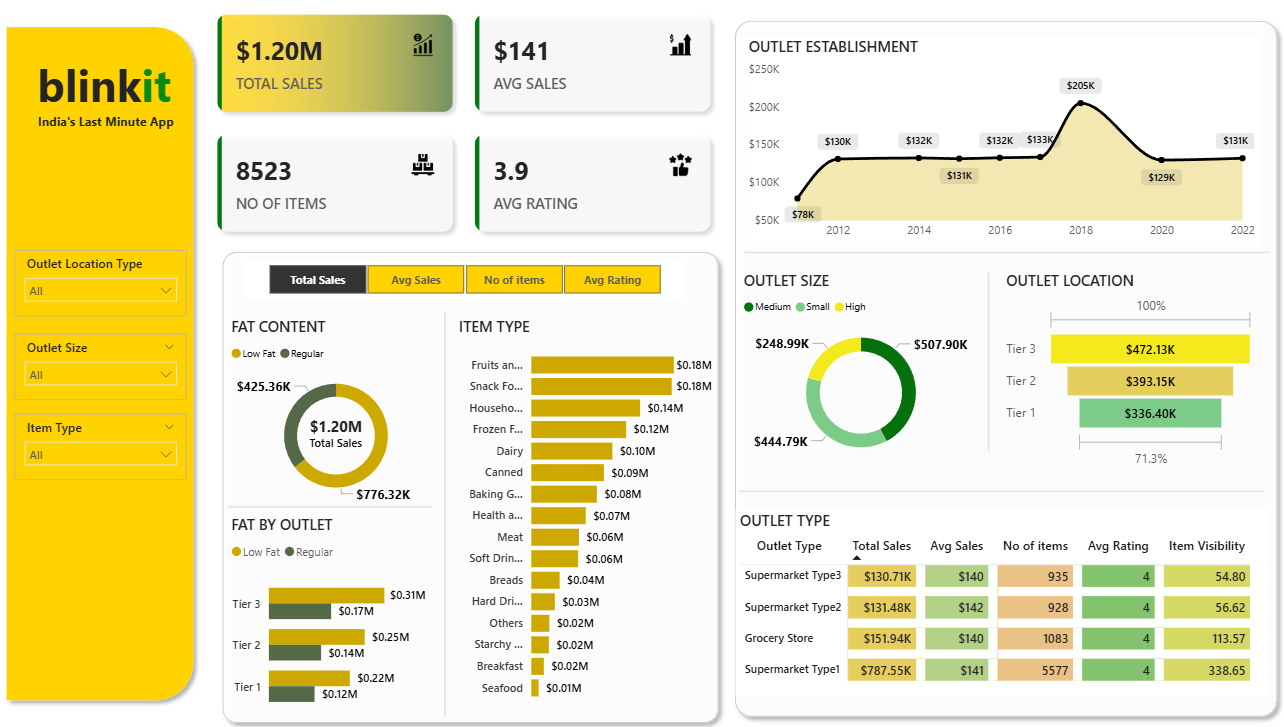

This screenshot's page, from the dashboard's own definition file:
{"tool":"powerbi","page":{"name":"Page 1","canvas":[1400,800],"ordinal":0},"visuals":[{"type":"shape","box":[0,25.8,221.5,750],"z":0},{"type":"textbox","box":[37.5,60,163.6,79.5],"z":1000},{"type":"textbox","box":[34.5,123.1,166.6,31.5],"z":2000},{"type":"cardVisual","fields":{"Data":["BlinkIT Grocery Data.Total Sales","BlinkIT Grocery Data.Avg Sales","BlinkIT Grocery Data.No of items","BlinkIT Grocery Data.Avg Rating"]},"box":[221.5,4.1,570.7,270.4],"z":3000},{"type":"shape","box":[235.1,270.4,557.1,529.9],"z":4000},{"type":"donutChart","title":"FAT CONTENT","fields":{"Y":["BlinkIT Grocery Data.Total Sales"],"Category":["BlinkIT Grocery Data.Item Fat Content"]},"box":[248.6,349.2,237.8,210.6],"z":5000},{"type":"slicer","fields":{"Values":["Metric.Metric"]},"box":[269,286.7,475.5,44.8],"z":6000},{"type":"cardVisual","fields":{"Data":["BlinkIT Grocery Data.Total Sales"]},"box":[311.1,440.2,112.8,61.1],"z":7000},{"type":"clusteredBarChart","title":"FAT BY OUTLET","fields":{"Y":["BlinkIT Grocery Data.Total Sales"],"Category":["BlinkIT Grocery Data.Outlet Location Type"],"Series":["BlinkIT Grocery Data.Item Fat Content"]},"box":[248.6,563.9,221.5,229.6],"z":8000},{"type":"barChart","title":"ITEM TYPE","fields":{"Y":["BlinkIT Grocery Data.Total Sales"],"Category":["BlinkIT Grocery Data.Item Type"]},"box":[495.9,349.2,285.3,428],"z":9000},{"type":"shape","box":[250,548.9,221.5,14.9],"z":10000},{"type":"shape","box":[479.6,343.8,12.2,440.2],"z":11000},{"type":"shape","box":[792.1,19,607.3,774.5],"z":12000},{"type":"lineChart","title":"OUTLET ESTABLISHMENT","fields":{"Y":["BlinkIT Grocery Data.Total Sales"],"Category":["BlinkIT Grocery Data.Outlet Establishment Year"]},"box":[811.1,44.8,559.8,229.6],"z":13000},{"type":"shape","box":[811.1,270.4,570.7,19],"z":14000},{"type":"donutChart","title":"OUTLET SIZE","fields":{"Y":["BlinkIT Grocery Data.Total Sales"],"Category":["BlinkIT Grocery Data.Outlet Size"]},"box":[805.7,298.9,264.9,217.4],"z":15000},{"type":"funnel","title":"OUTLET LOCATION","fields":{"Category":["BlinkIT Grocery Data.Outlet Location Type"],"Y":["BlinkIT Grocery Data.Total Sales"]},"box":[1091,298.9,279.9,220.1],"z":16000},{"type":"pivotTable","title":"OUTLET TYPE","fields":{"Rows":["BlinkIT Grocery Data.Outlet Type"],"Values":["BlinkIT Grocery Data.Total Sales","BlinkIT Grocery Data.Avg Sales","BlinkIT Grocery Data.No of items","BlinkIT Grocery Data.Avg Rating","Sum(BlinkIT Grocery Data.Item Visibility)"]},"box":[801.6,559.8,578.8,202.4],"z":17000},{"type":"shape","box":[805.7,529.9,570.7,19],"z":18000},{"type":"shape","box":[1070.7,301.6,12.2,194.3],"z":19000},{"type":"slicer","fields":{"Values":["BlinkIT Grocery Data.Outlet Location Type"]},"box":[17.7,277.2,187.5,72],"z":20000},{"type":"slicer","fields":{"Values":["BlinkIT Grocery Data.Outlet Size"]},"box":[17.7,368.2,187.5,72],"z":21000},{"type":"slicer","fields":{"Values":["BlinkIT Grocery Data.Item Type"]},"box":[17.7,455.2,187.5,72],"z":22000}]}

Visuals, with their boxes in screenshot pixels (x1, y1, x2, y2), scaled from the page's 1400x800 canvas onto the 1284x727 screenshot:
shape: <bbox>0, 23, 203, 705</bbox>
textbox: <bbox>34, 55, 184, 127</bbox>
textbox: <bbox>32, 112, 184, 140</bbox>
cardVisual - BlinkIT Grocery Data.Total Sales x BlinkIT Grocery Data.Avg Sales: <bbox>203, 4, 727, 249</bbox>
shape: <bbox>216, 246, 727, 726</bbox>
"FAT CONTENT" donutChart: <bbox>228, 317, 446, 509</bbox>
slicer - Metric.Metric: <bbox>247, 261, 683, 301</bbox>
cardVisual - BlinkIT Grocery Data.Total Sales: <bbox>285, 400, 389, 456</bbox>
"FAT BY OUTLET" clusteredBarChart: <bbox>228, 512, 431, 721</bbox>
"ITEM TYPE" barChart: <bbox>455, 317, 716, 706</bbox>
shape: <bbox>229, 499, 432, 512</bbox>
shape: <bbox>440, 312, 451, 712</bbox>
shape: <bbox>726, 17, 1283, 721</bbox>
"OUTLET ESTABLISHMENT" lineChart: <bbox>744, 41, 1257, 249</bbox>
shape: <bbox>744, 246, 1267, 263</bbox>
"OUTLET SIZE" donutChart: <bbox>739, 272, 982, 469</bbox>
"OUTLET LOCATION" funnel: <bbox>1001, 272, 1257, 472</bbox>
"OUTLET TYPE" pivotTable: <bbox>735, 509, 1266, 693</bbox>
shape: <bbox>739, 482, 1262, 499</bbox>
shape: <bbox>982, 274, 993, 451</bbox>
slicer - BlinkIT Grocery Data.Outlet Location Type: <bbox>16, 252, 188, 317</bbox>
slicer - BlinkIT Grocery Data.Outlet Size: <bbox>16, 335, 188, 400</bbox>
slicer - BlinkIT Grocery Data.Item Type: <bbox>16, 414, 188, 479</bbox>
